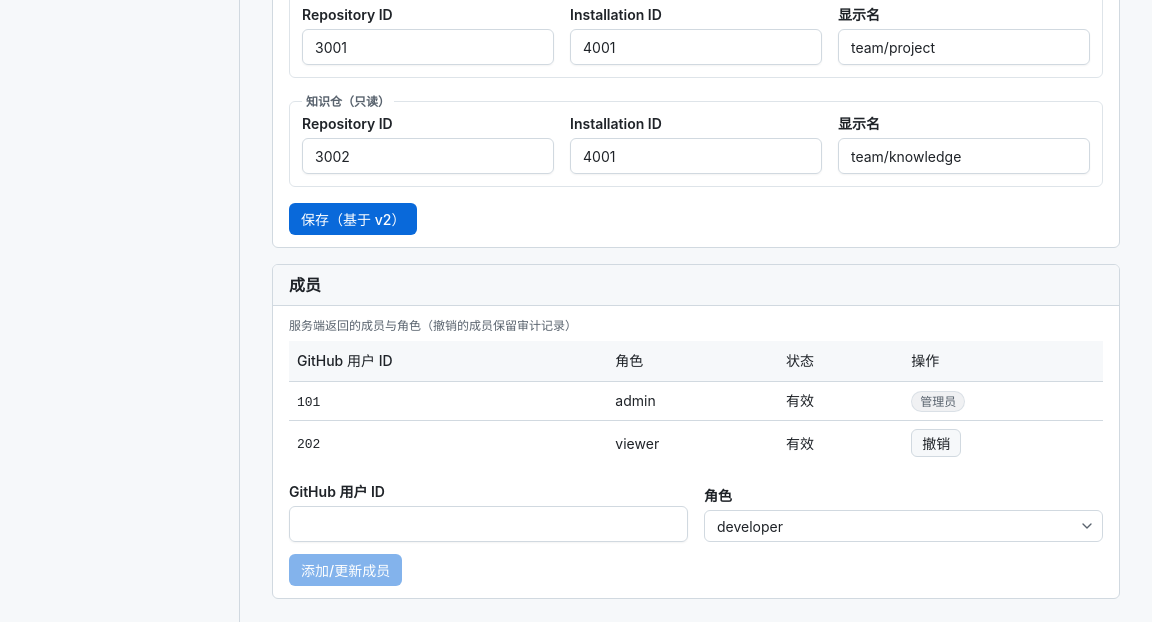
Test: workspace settings page › re-reads and re-confirms after a member-write conflict instead of repeating a stale version
(page scrolled)
Type "303" into the field labelled "GitHub 用户 ID".
click(488, 524); type("303")  # box [289, 506, 688, 542]
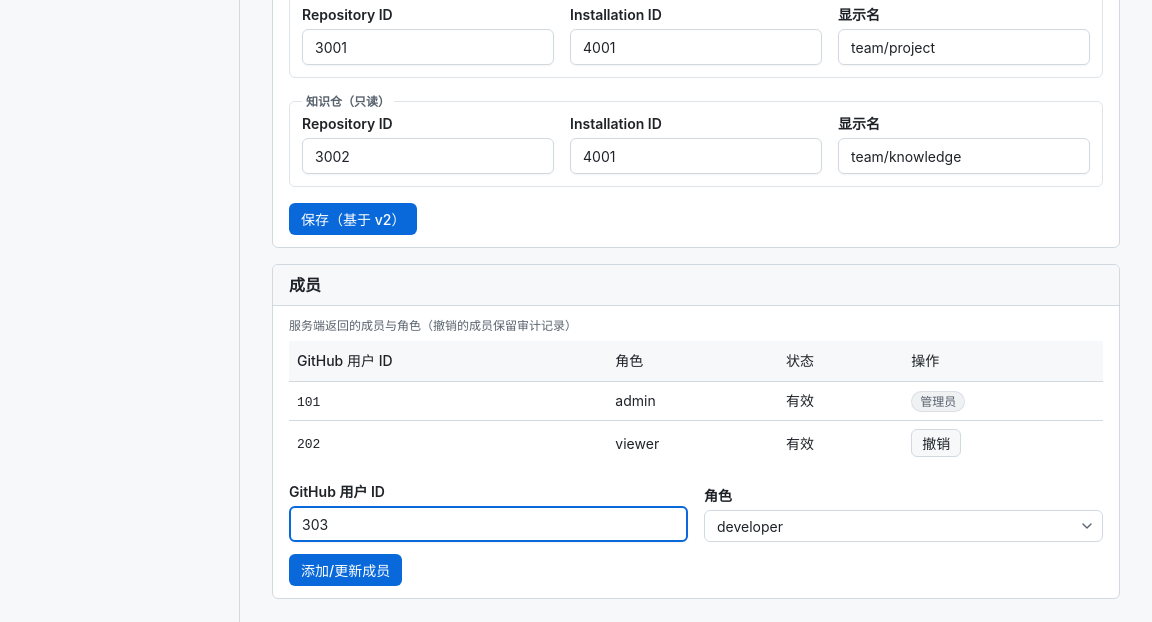
Click the button "添加/更新成员".
click(346, 570)  # box [289, 554, 402, 586]
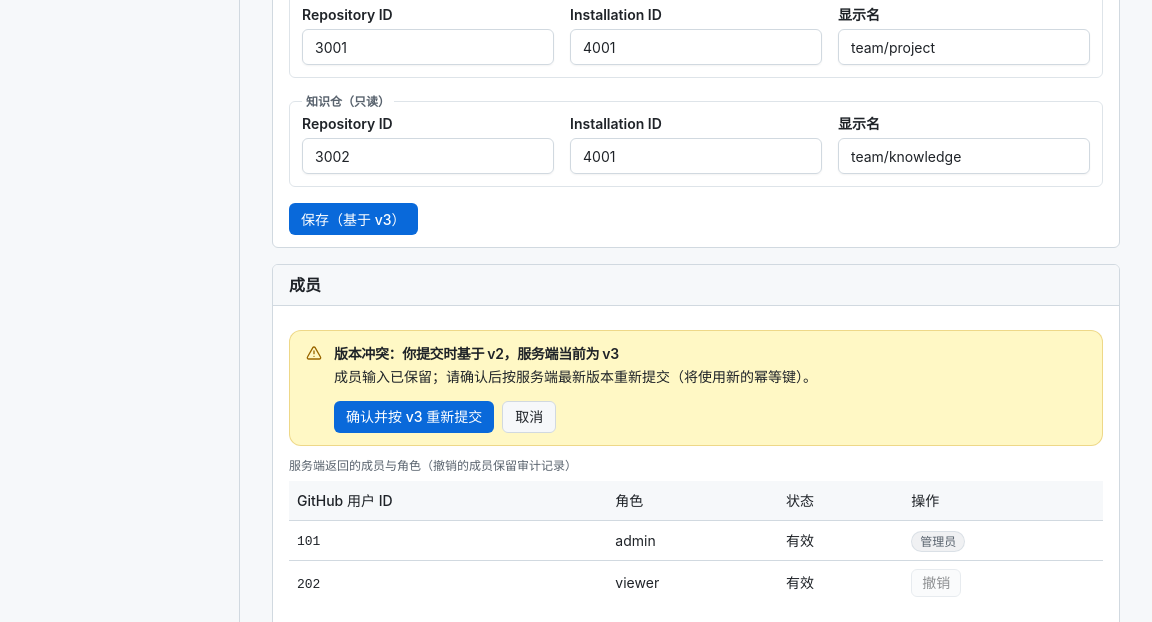
Check: the heading "版本冲突：你提交时基于 v2，服务端当前为 v3" is shown, box [334, 345, 619, 362]
Click the button "确认并按 v3 重新提交".
click(414, 417)  # box [334, 401, 494, 433]
(page scrolled)
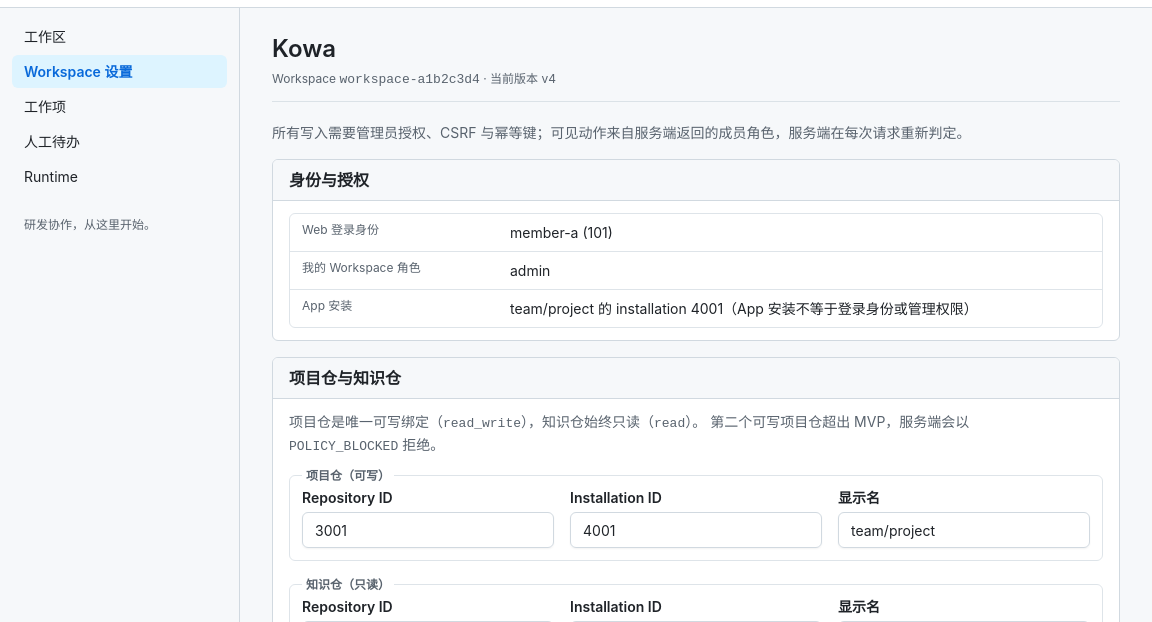
Check: the text "Workspace workspace-a1b2c3d4 · 当前版本 v4" is shown, box [272, 70, 556, 89]
